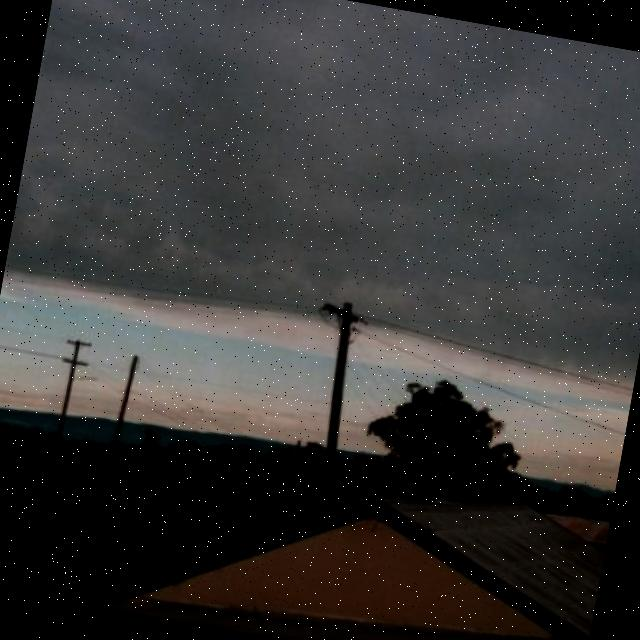Ns: (9, 1, 640, 355)
